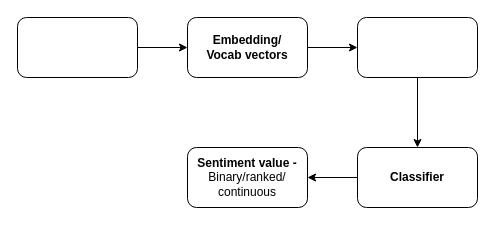
The diagram is 495 pixels wide and 225 high, and some of its shapes have lost their labels. Here are the shapes that lost their labels. From the top down, the box of each, then its label:
(16, 16, 138, 78): Pre-processed Text
(356, 16, 478, 78): Encoders - Average/RNN/BERT
